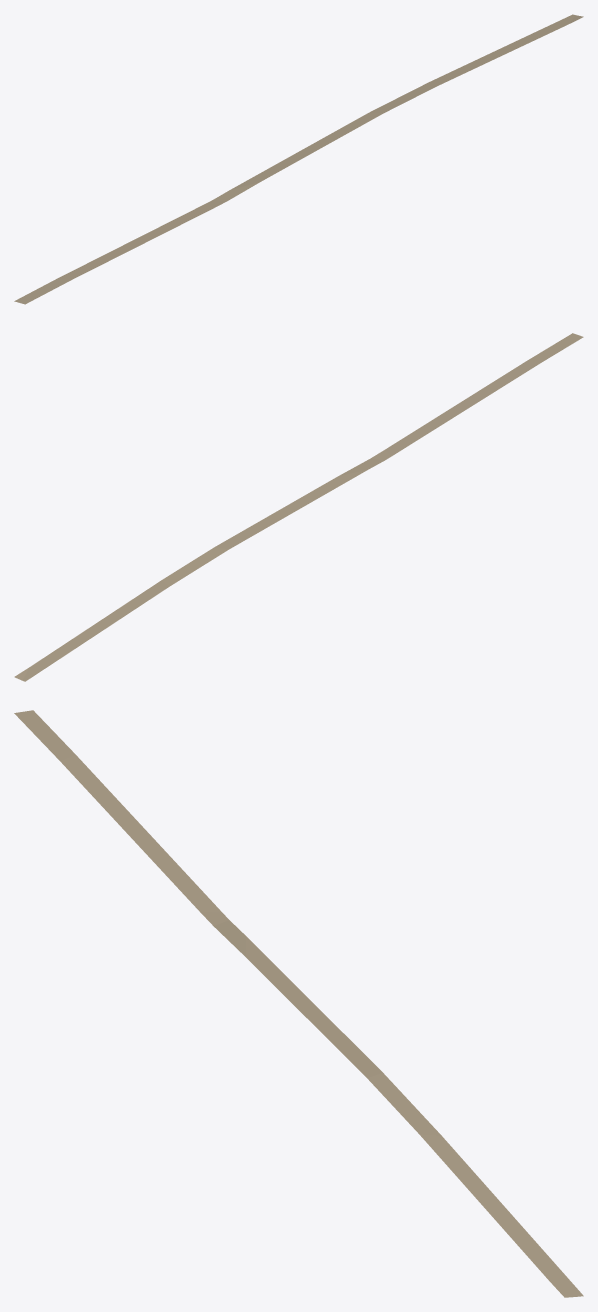
Rendered from farm_-46_-43_track.glb.
3 renders of one model, top to bottom at view 1: azimuth 30°, elevation 25°; view 2: azimuth 210°, elevation 25°; view 3: azimuth 270°, elevation 25°, orthographic. The views are drawn at different scales.
Parts seen in each view (by area): view 1: geometry_0; view 2: geometry_0; view 3: geometry_0.
Boxes of the visible parts, x1=… form: geometry_0: x1=14, y1=14, x2=583, y2=304; geometry_0: x1=14, y1=333, x2=583, y2=681; geometry_0: x1=14, y1=710, x2=583, y2=1297.
Bounding box in the file's own units: 202 × 7.57 × 89.1.
